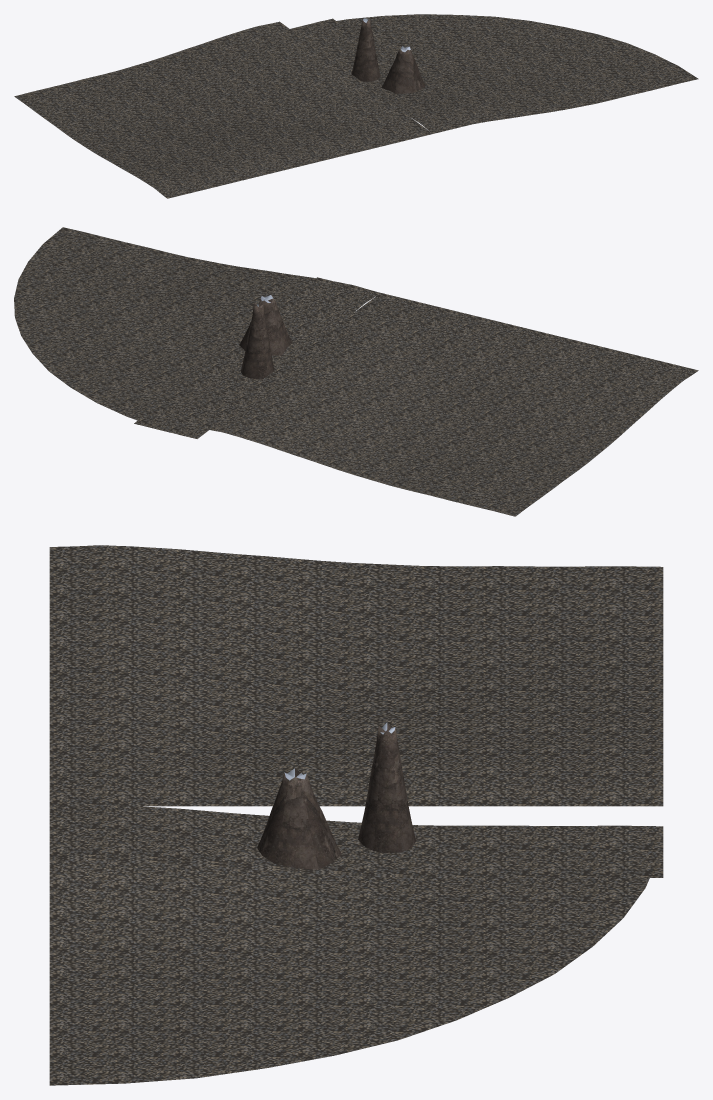
The model's file is bk_sea_winter.glb.
The picture shows the model from 3 angles, top to bottom: view 1: azimuth 30°, elevation 25°; view 2: azimuth 150°, elevation 25°; view 3: azimuth 270°, elevation 25°; orthographic projection. The views are drawn at different scales.
Visible parts, largest first — view 1: corner_inner, corner_outer, straight12_a, straight12_c_stack110, straight12_b_stack109, straight12_c, straight12_b, straight6, straight3; view 2: corner_inner, corner_outer, straight12_c, straight12_a, straight12_b_stack109, straight12_b, straight12_c_stack110, straight6, straight3; view 3: corner_inner, corner_outer, straight12_c, straight12_a, straight12_c_stack110, straight12_b_stack109, straight12_b, straight3, straight6.
Part boxes in pixels (x1,y1,x2,y2): corner_inner: (14, 21, 432, 198); corner_outer: (298, 14, 698, 133); straight12_a: (298, 19, 485, 123); straight12_c_stack110: (381, 46, 425, 93); straight12_b_stack109: (351, 18, 380, 81); straight12_c: (290, 18, 481, 133); straight12_b: (310, 19, 484, 129); straight6: (312, 29, 449, 122); straight3: (297, 32, 434, 124); corner_inner: (197, 293, 698, 516); corner_outer: (14, 227, 380, 430); straight12_c: (134, 280, 380, 436); straight12_a: (134, 277, 359, 438); straight12_b_stack109: (240, 301, 274, 379); straight12_b: (138, 278, 374, 433); straight12_c_stack110: (239, 295, 292, 355); straight6: (173, 293, 363, 434); straight3: (187, 298, 366, 430); corner_inner: (49, 545, 663, 806); corner_outer: (49, 804, 651, 1085); straight12_c: (49, 805, 663, 877); straight12_a: (49, 805, 663, 877); straight12_c_stack110: (257, 768, 341, 871); straight12_b_stack109: (358, 722, 415, 853); straight12_b: (49, 805, 663, 877); straight3: (70, 805, 642, 838); straight6: (89, 804, 638, 851).
Bounding box in the file's own units: 120 × 12.82 × 60.
Materials: 3 (3 with a texture image).
